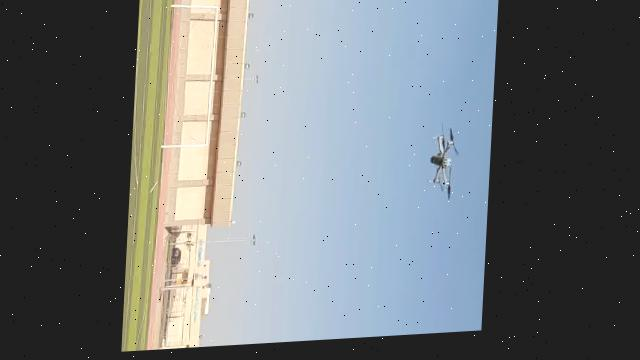drone: (426, 130, 462, 208)
